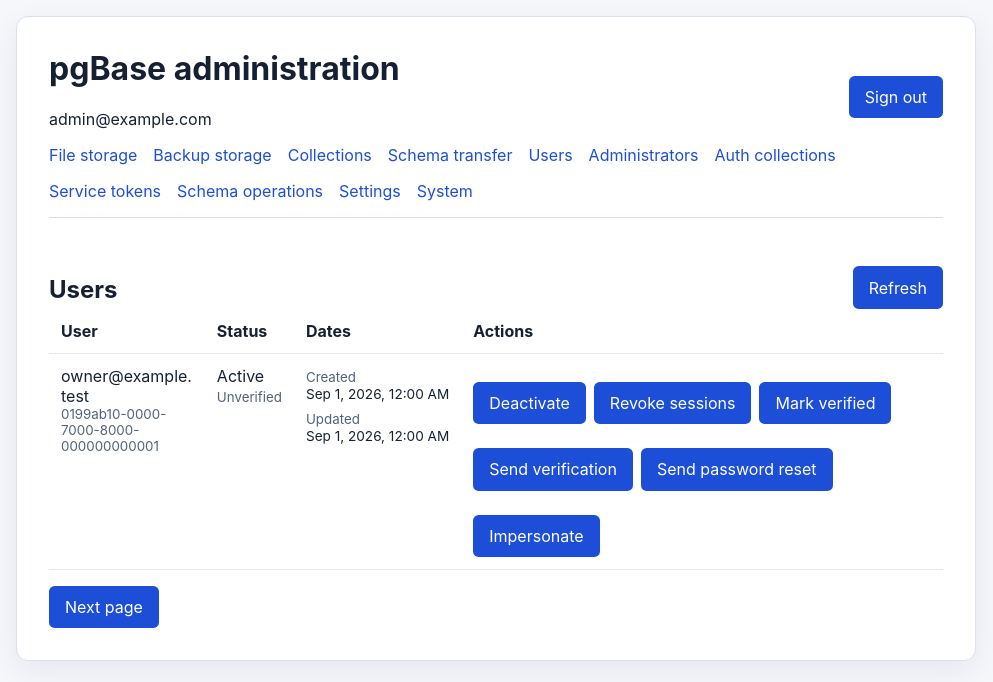
users page › requests the bounded next page using its cursor
Expected: the text "owner@example.test" is shown, left=61, top=366, right=193, bottom=406
What coordinates should you click on to do the following:
click the button "Next page"
I would click on:
 (104, 607)
Its box is left=49, top=586, right=159, bottom=628.
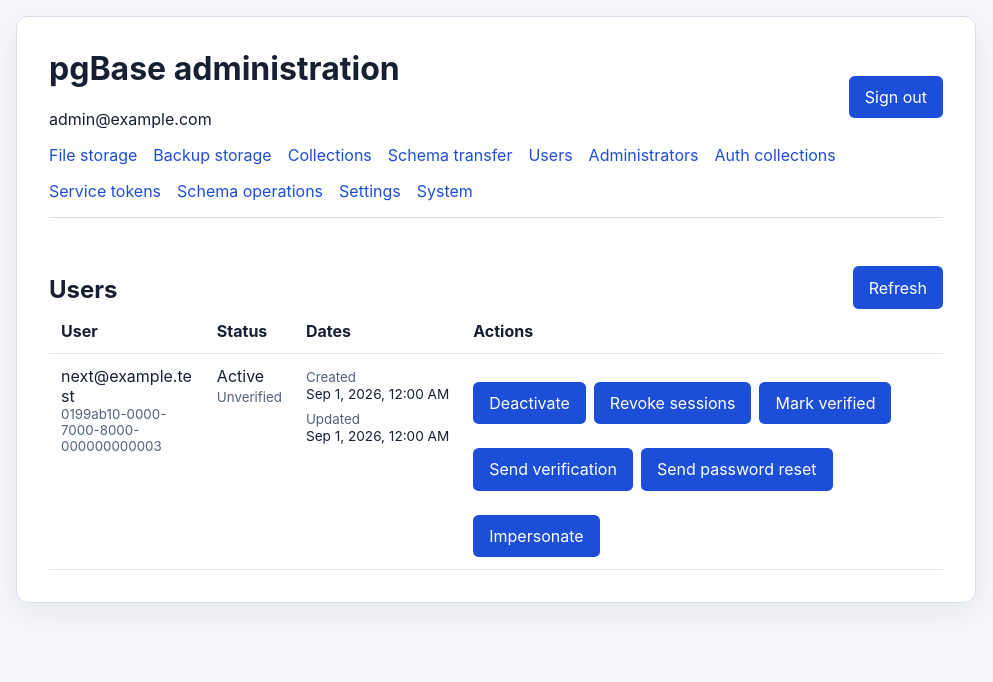
Result: the text "next@example.test" is shown at left=61, top=366, right=193, bottom=406
